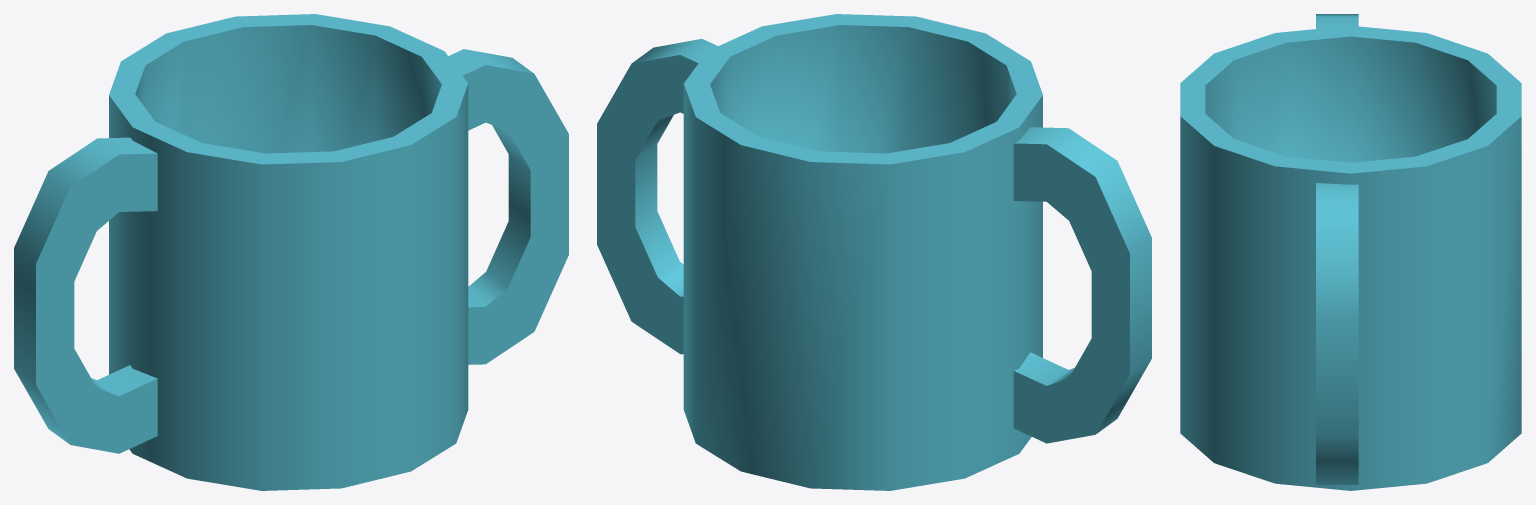
File: tazaNene.fbx
3 views of the same model, side by side, from view 1: azimuth 30°, elevation 25°; view 2: azimuth 150°, elevation 25°; view 3: azimuth 270°, elevation 25° (orthographic). The views are drawn at different scales.
Parts seen in each view (by area): view 1: tazaNene; view 2: tazaNene; view 3: tazaNene.
Boxes of the visible parts, left/top/right/bottom form: tazaNene: left=14, top=14, right=568, bottom=490; tazaNene: left=597, top=14, right=1151, bottom=490; tazaNene: left=1180, top=14, right=1521, bottom=490.
Size of the model in its own units: 0.2134 by 0.1249 by 0.1218.
